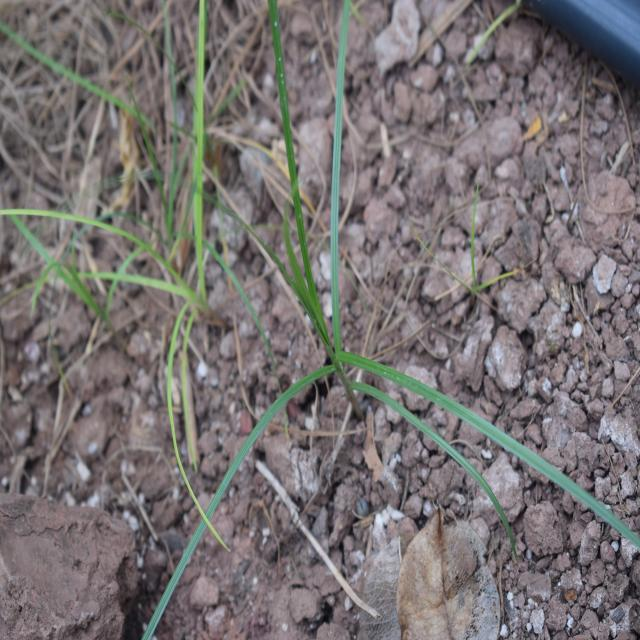sedge: (152, 44, 577, 564)
